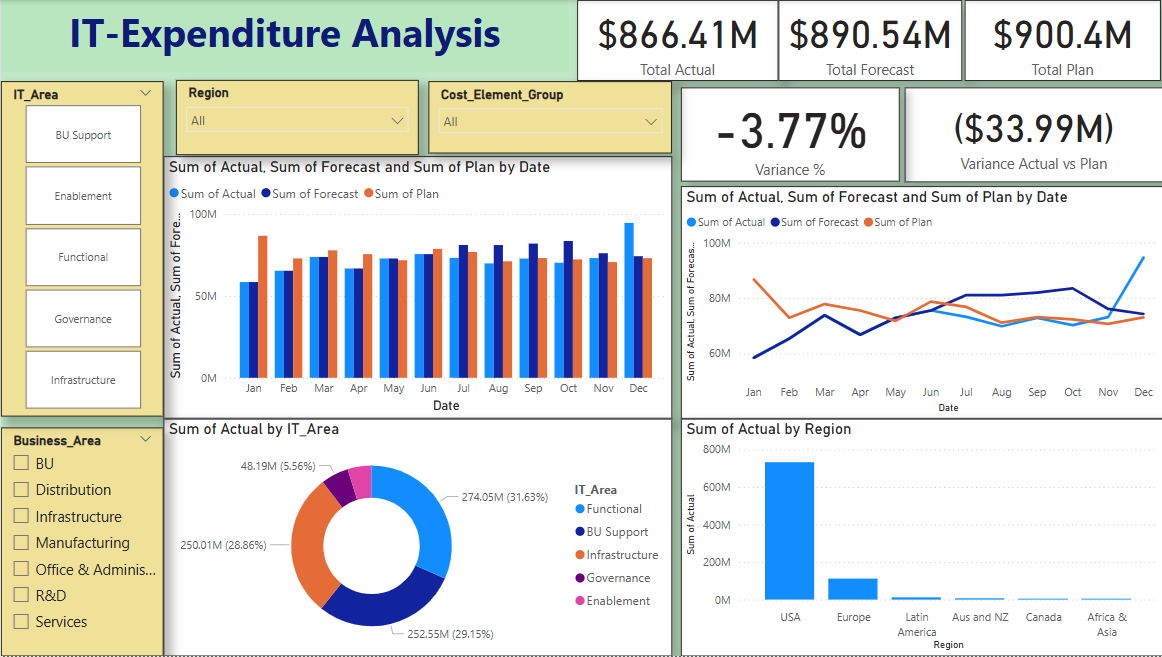

This screenshot's page, from the dashboard's own definition file:
{"tool":"powerbi","page":{"name":"IT-Expenditure_Analysis","canvas":[1280,720],"ordinal":0},"visuals":[{"type":"card","fields":{"Values":["Data.Total Actual"]},"box":[633,0,220.9,89.2],"z":0},{"type":"card","fields":{"Values":["Data.Total Forecast"]},"box":[853.9,0,201.7,89.2],"z":1000},{"type":"card","fields":{"Values":["Data.Total Plan"]},"box":[1058.4,0,215.4,89.2],"z":2000},{"type":"card","fields":{"Values":["Data.Variance Actual vs Plan"]},"box":[992.1,95.7,284,104.3],"z":4000},{"type":"textbox","box":[0,0,623,79.6],"z":5000},{"type":"clusteredColumnChart","fields":{"Y":["Sum(Data.Actual)","Sum(Data.Forecast)","Sum(Data.Plan)"],"Category":["Months.Date"]},"box":[178.4,171.5,558.5,288.2],"z":6000},{"type":"donutChart","fields":{"Category":["Data.IT_Area"],"Y":["Sum(Data.Actual)"]},"box":[178.4,459.7,558.5,260.7],"z":7000},{"type":"slicer","fields":{"Values":["Data.Business_Area"]},"box":[0,469.3,178.4,251.1],"z":7001},{"type":"slicer","fields":{"Values":["Data.IT_Area"]},"box":[0,89.2,178.4,367.8],"z":7002},{"type":"slicer","fields":{"Values":["Data.Region"]},"box":[192.1,87.8,266.2,82.3],"z":7003},{"type":"card","fields":{"Values":["Data.Variance %"]},"box":[746.5,95.7,240.1,102.9],"z":7004},{"type":"lineChart","fields":{"Category":["Months.Date"],"Y":["Sum(Data.Actual)","Sum(Data.Forecast)","Sum(Data.Plan)"]},"box":[746.5,204.5,529.7,255.2],"z":7005},{"type":"columnChart","fields":{"Category":["Data.Region"],"Y":["Sum(Data.Actual)"]},"box":[746.5,459.7,529.7,260.7],"z":7006},{"type":"slicer","fields":{"Values":["Data.Cost_Element_Group"]},"box":[469.3,89.2,267.6,79.6],"z":7007}]}

Visuals, with their boxes in screenshot pixels (x1, y1, x2, y2), scaled from the page's 1280x720 canvas onto the 1162x657 screenshot:
card - Data.Total Actual: 575, 0, 775, 81
card - Data.Total Forecast: 775, 0, 958, 81
card - Data.Total Plan: 961, 0, 1156, 81
card - Data.Variance Actual vs Plan: 901, 87, 1158, 182
textbox: 0, 0, 566, 73
clusteredColumnChart - Sum(Data.Actual) x Sum(Data.Forecast): 162, 156, 669, 419
donutChart - Data.IT_Area x Sum(Data.Actual): 162, 419, 669, 656
slicer - Data.Business_Area: 0, 428, 162, 656
slicer - Data.IT_Area: 0, 81, 162, 417
slicer - Data.Region: 174, 80, 416, 155
card - Data.Variance %: 678, 87, 896, 181
lineChart - Months.Date x Sum(Data.Actual): 678, 187, 1159, 419
columnChart - Data.Region x Sum(Data.Actual): 678, 419, 1159, 656
slicer - Data.Cost_Element_Group: 426, 81, 669, 154
